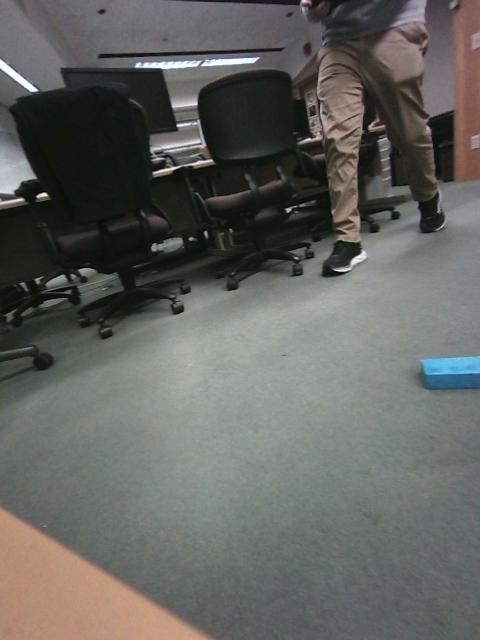block: (402, 345, 480, 417)
